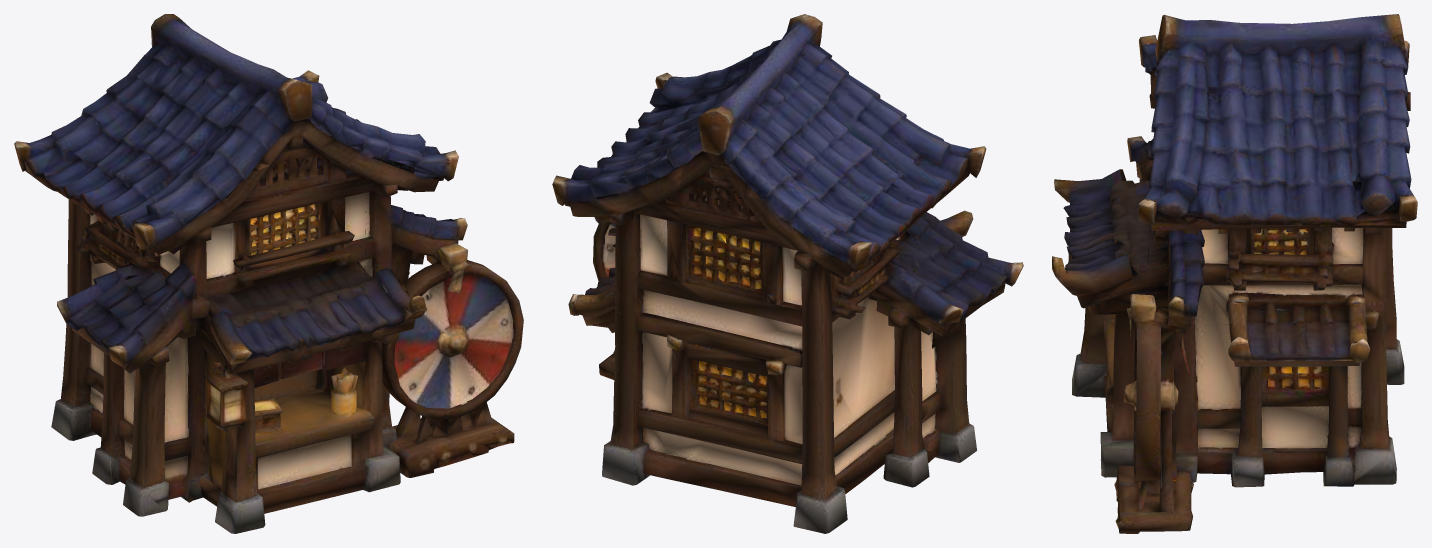
File: source-static-3751c7dc.glb
3 views of the same model, side by side, from view 1: azimuth 30°, elevation 25°; view 2: azimuth 150°, elevation 25°; view 3: azimuth 270°, elevation 25° (orthographic). The views are drawn at different scales.
Parts seen in each view (by area): view 1: compact__chance_wheel__neural_lod; view 2: compact__chance_wheel__neural_lod; view 3: compact__chance_wheel__neural_lod.
Boxes of the visible parts, box(x1,y1,x2,y2) form: compact__chance_wheel__neural_lod: box(14, 14, 523, 533); compact__chance_wheel__neural_lod: box(552, 14, 1023, 533); compact__chance_wheel__neural_lod: box(1052, 14, 1417, 533).
Size of the model in its own units: 1 by 0.9328 by 0.7269.
Materials: 1 (1 with a texture image).
